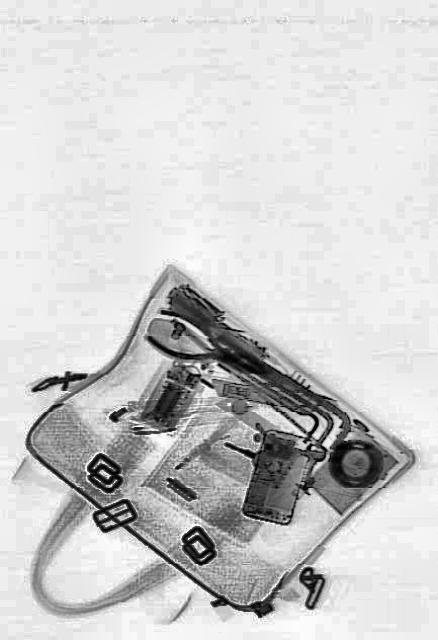Pliers: (145, 301, 241, 384)
